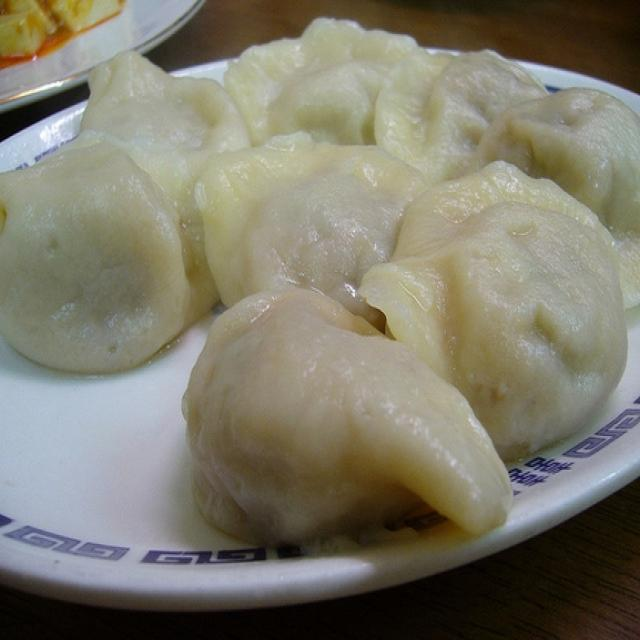带馅早点: (1, 27, 631, 618)
